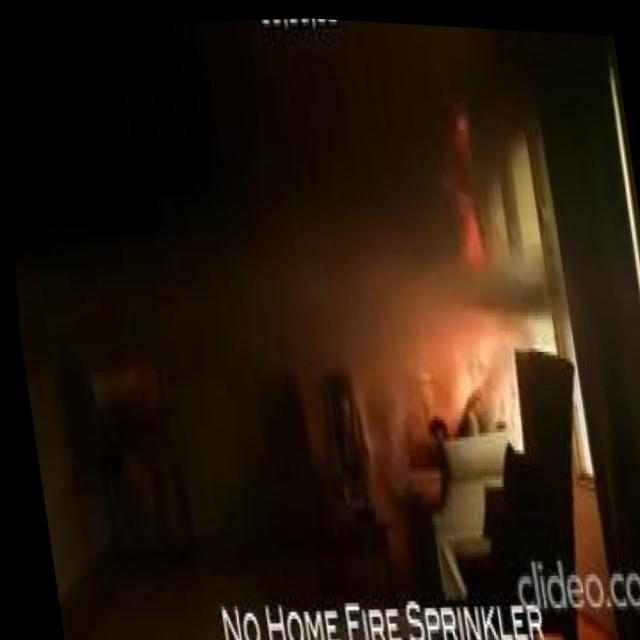fire: (441, 319, 502, 398), (457, 194, 484, 266), (454, 108, 470, 139)
